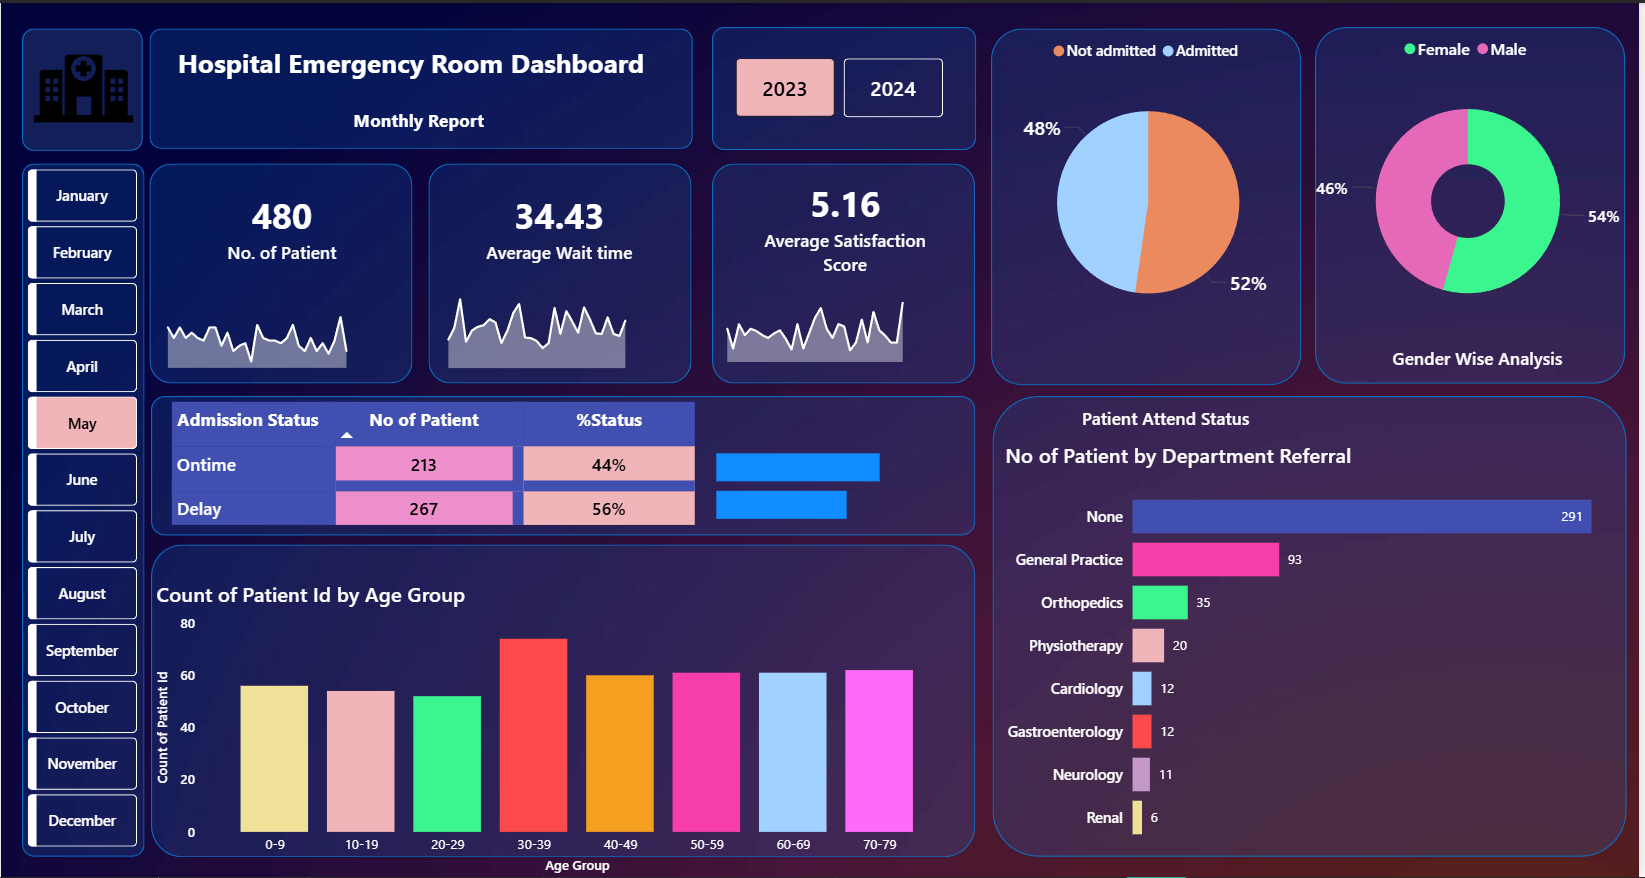

The page's visual inventory and layout, read from the dashboard file:
{"tool":"powerbi","page":{"name":"Dashboard","canvas":[1500,800],"ordinal":0},"visuals":[{"type":"shape","box":[19.3,147,112.2,634.6],"z":0},{"type":"advancedSlicerVisual","fields":{"Values":["Calender_Table.Date.Variation.Date Hierarchy.Month"]},"box":[19.3,147,110.3,634.6],"z":1000},{"type":"shape","box":[19.7,22.7,110.5,112.1],"z":2000},{"type":"image","box":[30.3,33.3,90.9,90.9],"z":3000},{"type":"shape","box":[135.4,23.2,497.2,110.3],"z":4000},{"type":"textbox","box":[150.9,32.9,448.8,48.4],"z":5000},{"type":"textbox","box":[309.5,90.9,147,32.9],"z":6000},{"type":"shape","box":[136.3,146.9,240.8,201.4],"z":7000},{"type":"shape","box":[651.1,146.9,240.8,201.4],"z":8000},{"type":"shape","box":[390.7,146.9,240.8,201.4],"z":9000},{"type":"shape","box":[650.9,21.5,241.8,112.6],"z":10000},{"type":"shape","box":[906.7,23.1,283.9,326.5],"z":11000},{"type":"shape","box":[1203.1,21.3,283.9,326.5],"z":12000},{"type":"pieChart","fields":{"Category":["Hospital Emergency Room Data.Patient Admission Flag"],"Y":["CountNonNull(Hospital Emergency Room Data.Patient Admission Flag)"]},"box":[907.4,23.2,284.4,288.3],"z":13000},{"type":"advancedSlicerVisual","fields":{"Values":["Calender_Table.Date.Variation.Date Hierarchy.Year"]},"box":[667,45.5,200.9,64.3],"z":14000},{"type":"donutChart","fields":{"Category":["Hospital Emergency Room Data.Patient Gender"],"Y":["CountNonNull(Hospital Emergency Room Data.Patient Gender)"]},"box":[1197.6,21.3,290.2,290.2],"z":15000},{"type":"shape","box":[137.4,495.3,754.5,286.3],"z":16000},{"type":"clusteredColumnChart","fields":{"Category":["Hospital Emergency Room Data.Age Group"],"Y":["Count(Hospital Emergency Room Data.Patient Id)"]},"box":[137.4,528.2,735.2,272.8],"z":17000},{"type":"shape","box":[907.4,359.8,580.4,421.8],"z":18000},{"type":"clusteredBarChart","title":"No of Patient by Department Referral","fields":{"Category":["Hospital Emergency Room Data.Department Referral"],"Y":["CountNonNull(Hospital Emergency Room Data.Department Referral)"]},"box":[915.1,400.5,572.7,381.1],"z":19000},{"type":"areaChart","fields":{"Category":["Calender_Table.Date.Variation.Date Hierarchy.Day"],"Y":["Count(Hospital Emergency Room Data.Patient Id)"]},"box":[137.4,276.7,238,58],"z":20000},{"type":"areaChart","fields":{"Category":["Calender_Table.Date.Variation.Date Hierarchy.Day"],"Y":["Avg(Hospital Emergency Room Data.Patient Waittime)"]},"box":[394.7,247.6,236,87.1],"z":21000},{"type":"areaChart","fields":{"Category":["Calender_Table.Date.Variation.Date Hierarchy.Day"],"Y":["Avg(Hospital Emergency Room Data.Patient Satisfaction Score)"]},"box":[650,251.5,234.1,77.4],"z":22000},{"type":"cardVisual","fields":{"Data":["Count(Hospital Emergency Room Data.Patient Id)"]},"box":[160.6,147,193.5,116.1],"z":23000},{"type":"shape","box":[137.4,359.8,754.5,127.7],"z":24000},{"type":"pivotTable","fields":{"Rows":["Hospital Emergency Room Data.Patient attend status"],"Values":["Count(Hospital Emergency Room Data.Patient Id)","Divide(Count(Hospital Emergency Room Data.Patient Id), ScopedEval(Count(Hospital Emergency Room Data.Patient Id), [Role."]},"box":[150.9,359.8,535.9,127.7],"z":25000},{"type":"barChart","fields":{"Category":["Hospital Emergency Room Data.Patient attend status"],"Y":["Count(Hospital Emergency Room Data.Patient Id)"]},"box":[650,381.1,178,114.1],"z":26000},{"type":"cardVisual","fields":{"Data":["Avg(Hospital Emergency Room Data.Patient Waittime)"]},"box":[414,147,193.5,116.1],"z":27000},{"type":"cardVisual","fields":{"Data":["Avg(Hospital Emergency Room Data.Patient Satisfaction Score)"]},"box":[661.7,147,222.5,116.1],"z":28000},{"type":"textbox","box":[984.7,363.7,179.9,36.8],"z":29000},{"type":"textbox","box":[1269.1,309.5,187.7,38.7],"z":30000},{"type":"actionButton","box":[136.6,262.6,239.6,85.2],"z":31000},{"type":"actionButton","box":[390.4,255.5,239.6,94],"z":32000},{"type":"actionButton","box":[651.2,255.5,239.6,88.7],"z":33000}]}

Visuals, with their boxes in screenshot pixels (x1, y1, x2, y2), scaled from the page's 1500x800 canvas onto the 1645x878 screenshot:
shape: locate(21, 161, 144, 858)
advancedSlicerVisual - Calender_Table.Date.Variation.Date Hierarchy.Month: locate(21, 161, 142, 858)
shape: locate(22, 25, 143, 148)
image: locate(33, 37, 133, 136)
shape: locate(148, 25, 694, 147)
textbox: locate(165, 36, 658, 89)
textbox: locate(339, 100, 501, 136)
shape: locate(149, 161, 414, 382)
shape: locate(714, 161, 978, 382)
shape: locate(428, 161, 693, 382)
shape: locate(714, 24, 979, 147)
shape: locate(994, 25, 1306, 384)
shape: locate(1319, 23, 1631, 382)
pieChart - Hospital Emergency Room Data.Patient Admission Flag x CountNonNull(Hospital Emergency Room Data.Patient Admission Flag): locate(995, 25, 1307, 342)
advancedSlicerVisual - Calender_Table.Date.Variation.Date Hierarchy.Year: locate(731, 50, 952, 121)
donutChart - Hospital Emergency Room Data.Patient Gender x CountNonNull(Hospital Emergency Room Data.Patient Gender): locate(1313, 23, 1632, 342)
shape: locate(151, 544, 978, 858)
clusteredColumnChart - Hospital Emergency Room Data.Age Group x Count(Hospital Emergency Room Data.Patient Id): locate(151, 580, 957, 877)
shape: locate(995, 395, 1632, 858)
"No of Patient by Department Referral" clusteredBarChart: locate(1004, 440, 1632, 858)
areaChart - Calender_Table.Date.Variation.Date Hierarchy.Day x Count(Hospital Emergency Room Data.Patient Id): locate(151, 304, 412, 367)
areaChart - Calender_Table.Date.Variation.Date Hierarchy.Day x Avg(Hospital Emergency Room Data.Patient Waittime): locate(433, 272, 692, 367)
areaChart - Calender_Table.Date.Variation.Date Hierarchy.Day x Avg(Hospital Emergency Room Data.Patient Satisfaction Score): locate(713, 276, 970, 361)
cardVisual - Count(Hospital Emergency Room Data.Patient Id): locate(176, 161, 388, 289)
shape: locate(151, 395, 978, 535)
pivotTable - Hospital Emergency Room Data.Patient attend status x Count(Hospital Emergency Room Data.Patient Id): locate(165, 395, 753, 535)
barChart - Hospital Emergency Room Data.Patient attend status x Count(Hospital Emergency Room Data.Patient Id): locate(713, 418, 908, 543)
cardVisual - Avg(Hospital Emergency Room Data.Patient Waittime): locate(454, 161, 666, 289)
cardVisual - Avg(Hospital Emergency Room Data.Patient Satisfaction Score): locate(726, 161, 970, 289)
textbox: locate(1080, 399, 1277, 440)
textbox: locate(1392, 340, 1598, 382)
actionButton: locate(150, 288, 413, 382)
actionButton: locate(428, 280, 691, 384)
actionButton: locate(714, 280, 977, 378)
